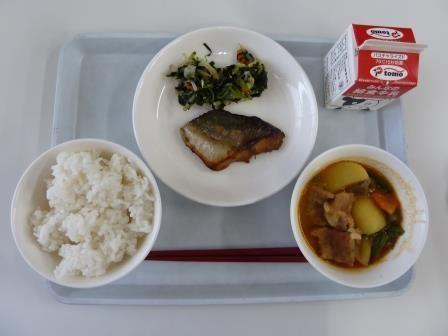Fish: (180, 111, 281, 182)
Milk: (318, 15, 427, 115)
Rice: (15, 140, 157, 280)
Salad: (170, 42, 280, 110)
meat based soup: (297, 160, 415, 279)
